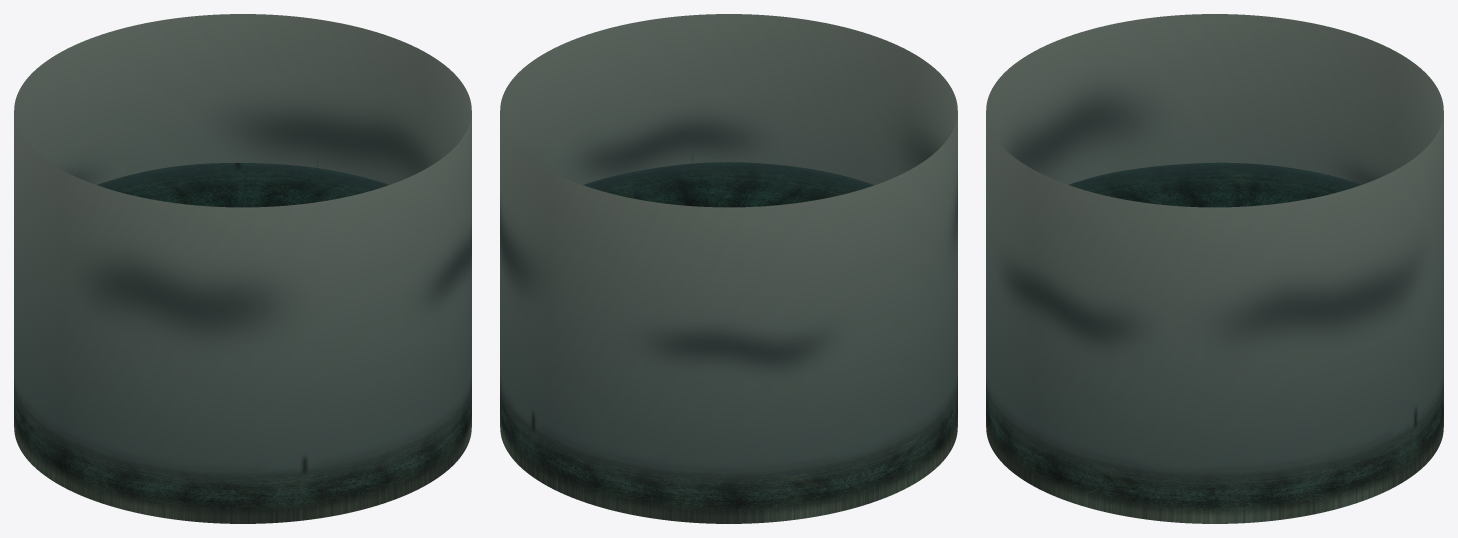
File: regatta-panorama.glb
3 views of the same model, side by side, from view 1: azimuth 30°, elevation 25°; view 2: azimuth 150°, elevation 25°; view 3: azimuth 270°, elevation 25° (orthographic).
Parts seen in each view (by area): view 1: RegattaPanorama; view 2: RegattaPanorama; view 3: RegattaPanorama.
Boxes of the visible parts, bbox=[...] form: RegattaPanorama: bbox=[14, 14, 471, 523]; RegattaPanorama: bbox=[500, 14, 957, 523]; RegattaPanorama: bbox=[986, 14, 1443, 523].
Size of the model in its own units: 380 by 290 by 380.
1 material, 1 textured.
